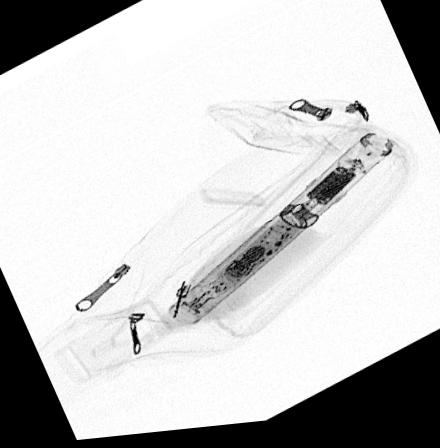Baton: (165, 138, 394, 332)
